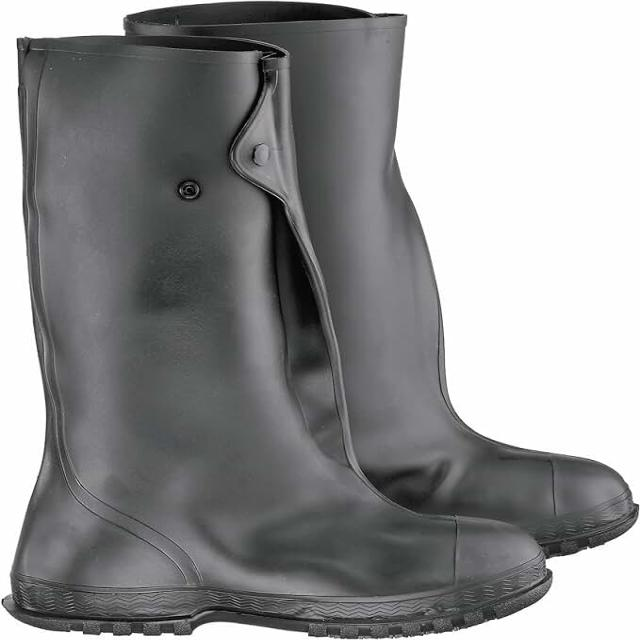boot: (8, 21, 640, 624)
